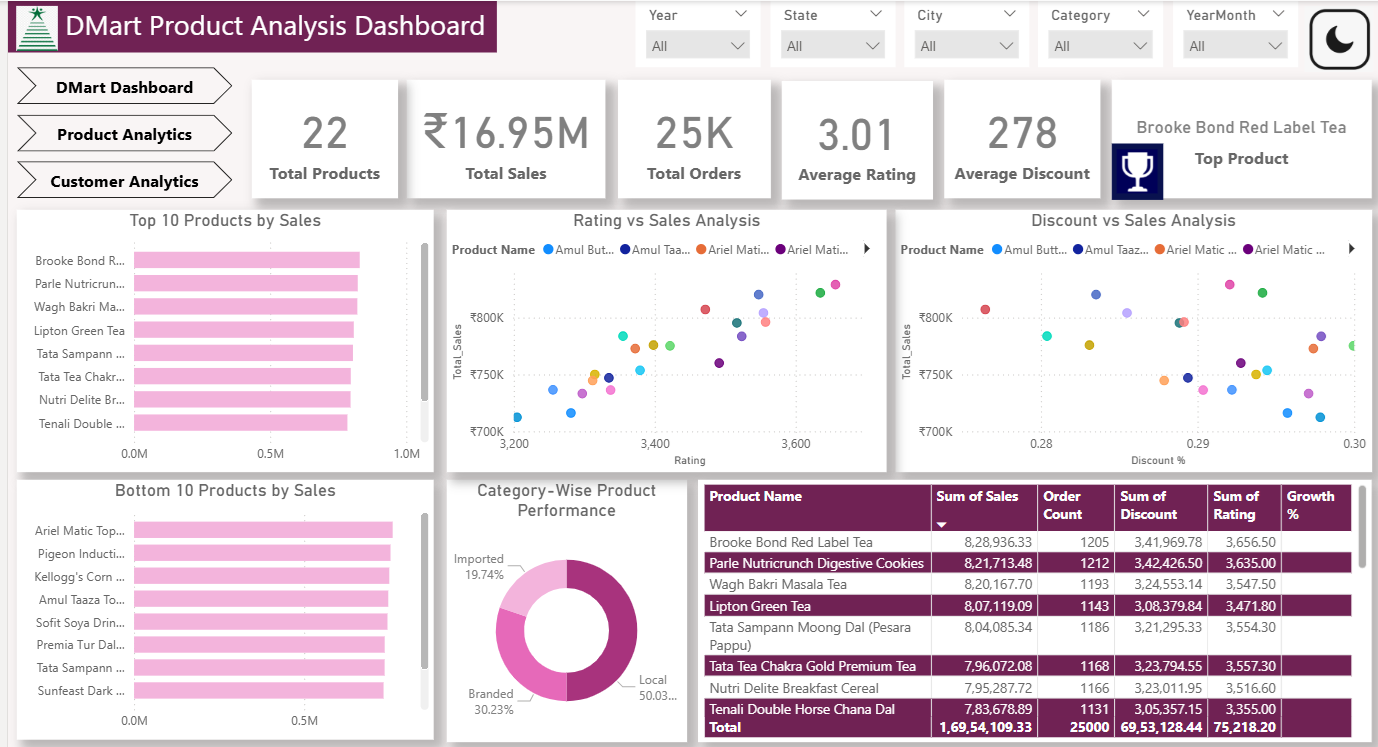

The page's visual inventory and layout, read from the dashboard file:
{"tool":"powerbi","page":{"name":"Duplicate of Product Analytics","canvas":[1346,730],"ordinal":4},"visuals":[{"type":"textbox","box":[0,0,478.1,50.1],"z":0},{"type":"image","box":[0,0,57.5,53.8],"z":1000},{"type":"card","fields":{"Values":["Dmart.Total_Sales"]},"box":[390.2,77.1,194.5,116.2],"z":2000},{"type":"card","fields":{"Values":["Dmart.No. of Orders"]},"box":[596.9,77.1,149.2,116.2],"z":3000},{"type":"card","title":"Cancelled / Retuen Order Count","fields":{"Values":["Dmart.Total Products"]},"box":[238.5,77.1,143.1,116.2],"z":4000},{"type":"card","title":"Cancelled / Retuen Order Count","fields":{"Values":["Dmart.Average Rating"]},"box":[757.2,78.3,148,116.2],"z":5000},{"type":"card","title":"Cancelled / Retuen Order Count","fields":{"Values":["Dmart.Average Discount"]},"box":[916.2,77.1,152.9,116.2],"z":6000},{"type":"card","title":"Cancelled / Retuen Order Count","fields":{"Values":["Dmart.Top Product"]},"box":[1080.1,77.1,254.4,116.2],"z":7000},{"type":"clusteredBarChart","title":"Top 10 Products by Sales","fields":{"Y":["Sum(Dmart.Total Order Value)"],"Category":["Dmart.Product Name"]},"box":[8.6,203.7,408.4,256.8],"z":8000},{"type":"clusteredBarChart","title":"Bottom 10 Products by Sales","fields":{"Y":["Sum(Dmart.Total Order Value)"],"Category":["Dmart.Product Name"]},"box":[8.6,469.1,408.4,254.3],"z":9000},{"type":"donutChart","title":"Category-Wise Product Performance","fields":{"Category":["Dmart.Category"],"Y":["Sum(Dmart.Total Order Value)"]},"box":[429.3,468.5,234.9,256.9],"z":10000},{"type":"scatterChart","title":"Discount vs Sales Analysis","fields":{"X":["Dmart.Discount %"],"Y":["Dmart.Total_Sales"],"Series":["Dmart.Product Name"]},"box":[868.5,204.3,466,256.9],"z":11000},{"type":"scatterChart","title":"Rating vs Sales Analysis","fields":{"X":["Sum(Dmart.Rating)"],"Y":["Dmart.Total_Sales"],"Series":["Dmart.Product Name"]},"box":[429.3,204.3,430.6,256.9],"z":12000},{"type":"tableEx","fields":{"Values":["Dmart.Product Name","Sum(Dmart.Total Order Value)","CountNonNull(Dmart.Order ID)","Sum(Dmart.Discount)","Sum(Dmart.Rating)","Dmart.Growth %"]},"box":[675.2,468.5,659.3,256.9],"z":13000},{"type":"slicer","fields":{"Values":["Date Table.YearMonth"]},"box":[1139.8,0,122.3,64.8],"z":14000},{"type":"slicer","fields":{"Values":["Dmart.State"]},"box":[745.9,0,122.3,64.8],"z":15000},{"type":"slicer","fields":{"Values":["Dmart.City"]},"box":[876.8,0,122.3,64.8],"z":16000},{"type":"slicer","fields":{"Values":["Dmart.Category"]},"box":[1007.7,0,122.3,64.8],"z":17000},{"type":"slicer","fields":{"Values":["Dmart.Year"]},"box":[613.8,0,122.3,64.8],"z":18000},{"type":"image","box":[1080.1,139.4,50.2,55],"z":19000},{"type":"pageNavigator","box":[8.7,64.8,211.9,129.7],"z":20000},{"type":"image","box":[1260.3,0,84.4,74.5],"z":21000}]}

Visuals, with their boxes in screenshot pixels (x1, y1, x2, y2), scaled from the page's 1346x730 canvas onto the 1378x747 screenshot:
textbox: select_region(0, 0, 489, 51)
image: select_region(0, 0, 59, 55)
card - Dmart.Total_Sales: select_region(399, 79, 599, 198)
card - Dmart.No. of Orders: select_region(611, 79, 764, 198)
"Cancelled / Retuen Order Count" card: select_region(244, 79, 391, 198)
"Cancelled / Retuen Order Count" card: select_region(775, 80, 927, 199)
"Cancelled / Retuen Order Count" card: select_region(938, 79, 1095, 198)
"Cancelled / Retuen Order Count" card: select_region(1106, 79, 1366, 198)
"Top 10 Products by Sales" clusteredBarChart: select_region(9, 208, 427, 471)
"Bottom 10 Products by Sales" clusteredBarChart: select_region(9, 480, 427, 740)
"Category-Wise Product Performance" donutChart: select_region(440, 479, 680, 742)
"Discount vs Sales Analysis" scatterChart: select_region(889, 209, 1366, 472)
"Rating vs Sales Analysis" scatterChart: select_region(440, 209, 880, 472)
tableEx - Dmart.Product Name x Sum(Dmart.Total Order Value): select_region(691, 479, 1366, 742)
slicer - Date Table.YearMonth: select_region(1167, 0, 1292, 66)
slicer - Dmart.State: select_region(764, 0, 889, 66)
slicer - Dmart.City: select_region(898, 0, 1023, 66)
slicer - Dmart.Category: select_region(1032, 0, 1157, 66)
slicer - Dmart.Year: select_region(628, 0, 754, 66)
image: select_region(1106, 143, 1157, 199)
pageNavigator: select_region(9, 66, 226, 199)
image: select_region(1290, 0, 1377, 76)
